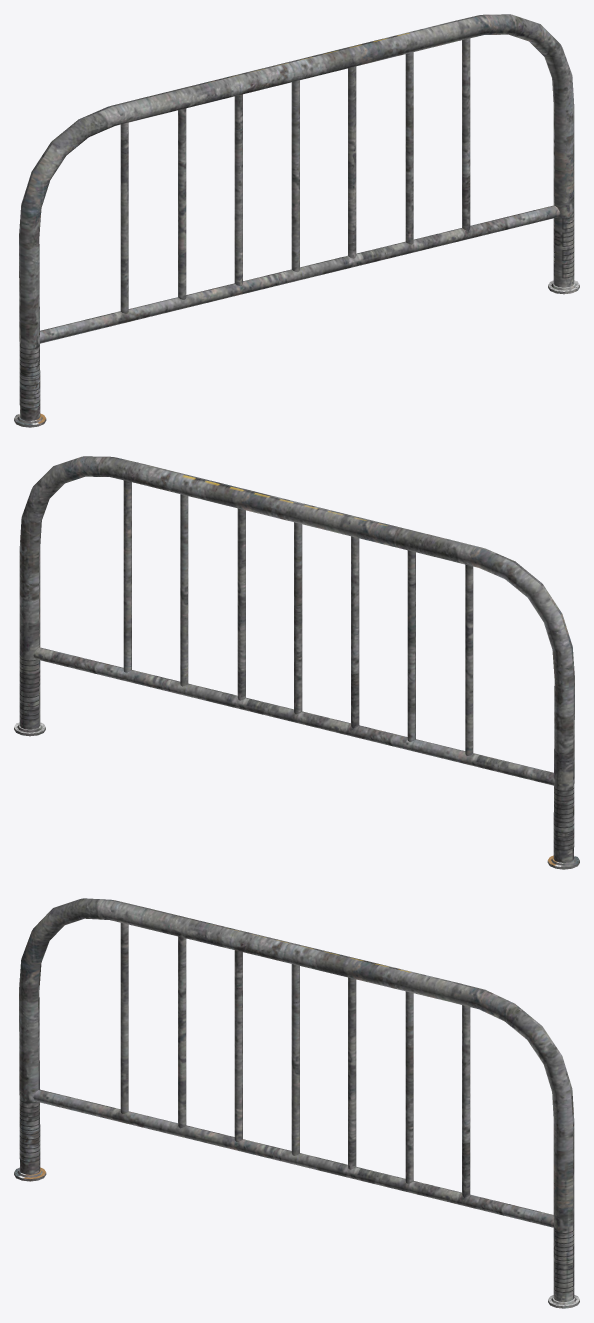
The model's file is lancan.fbx.
The picture shows the model from 3 angles, top to bottom: view 1: azimuth 30°, elevation 25°; view 2: azimuth 150°, elevation 25°; view 3: azimuth 330°, elevation 25°; orthographic projection.
Visible parts, largest first — view 1: Object_18; view 2: Object_18; view 3: Object_18.
Part boxes in pixels (x1,y1,x2,y2): Object_18: (14, 14, 579, 427); Object_18: (14, 456, 579, 869); Object_18: (14, 898, 579, 1308).
Size of the model in its own units: 196 by 98.49 by 9.76.
Materials: 1 (1 with a texture image).
